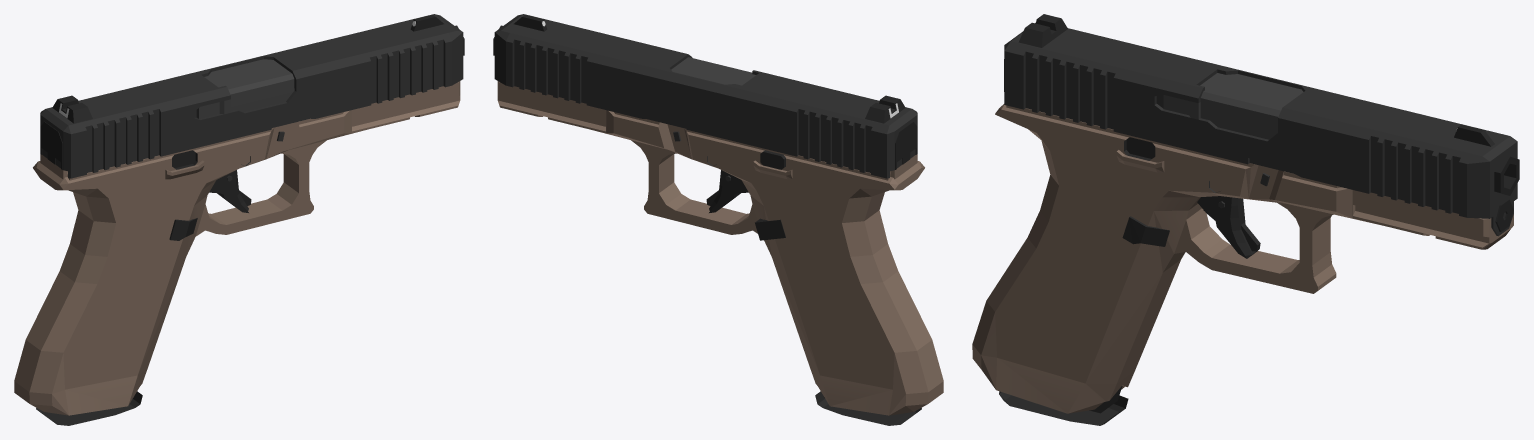
Rendered from pistol_glock17.glb.
3 views of the same model, side by side, from view 1: azimuth 30°, elevation 25°; view 2: azimuth 150°, elevation 25°; view 3: azimuth 330°, elevation 25° (orthographic). The views are drawn at different scales.
Parts seen in each view (by area): view 1: G17_0; view 2: G17_0; view 3: G17_0.
Boxes of the visible parts, x1=… form: G17_0: x1=14, y1=14, x2=464, y2=425; G17_0: x1=493, y1=14, x2=943, y2=425; G17_0: x1=972, y1=14, x2=1519, y2=425.
Bounding box in the file's own units: 0.2052 × 0.1408 × 0.0289.
